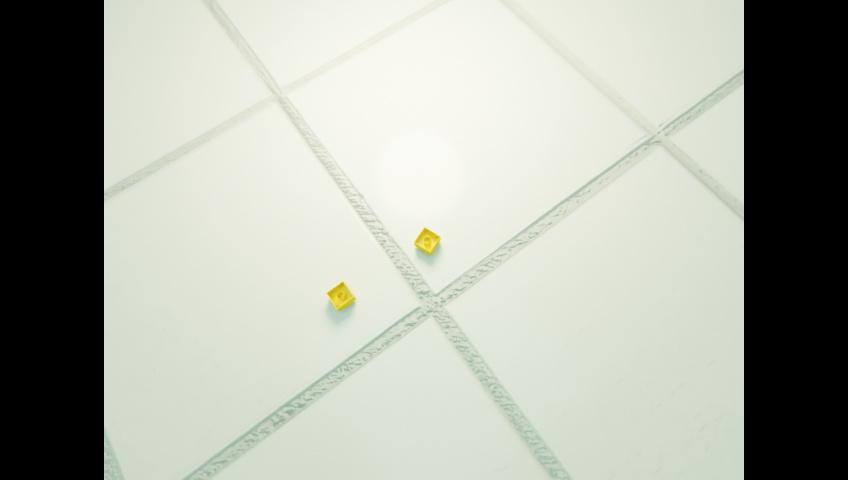2x2_yellow: (326, 280, 355, 310), (413, 226, 439, 254)
